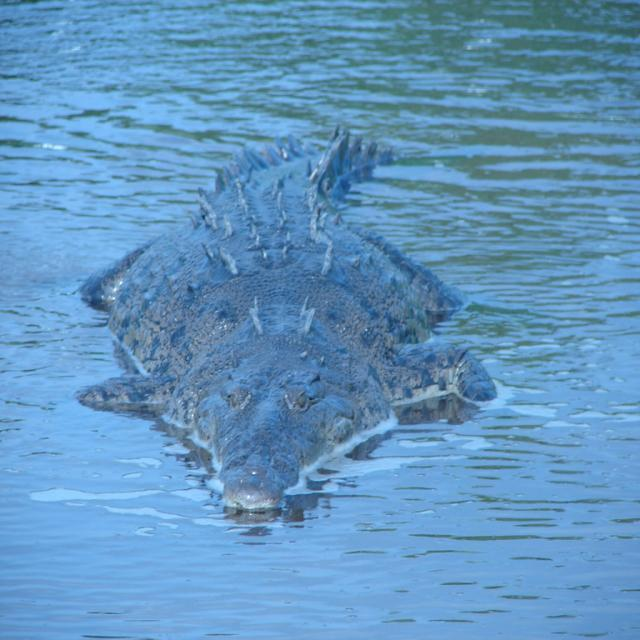crocodile: (48, 114, 516, 540)
